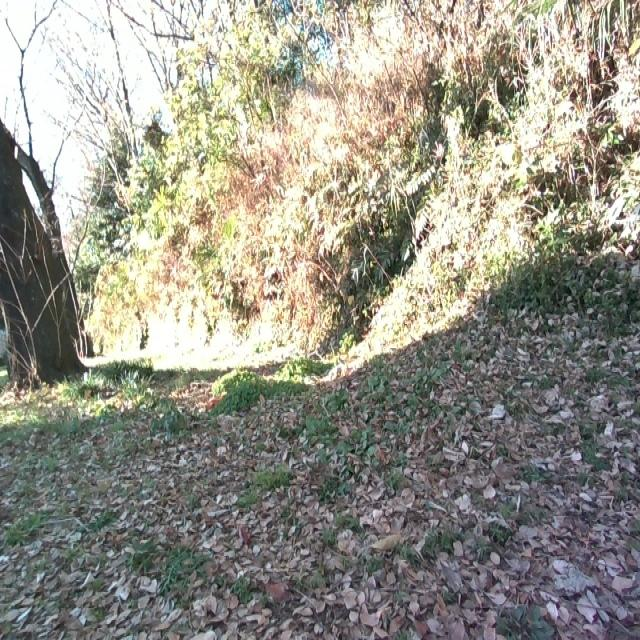bush: (75, 2, 306, 357), (219, 173, 425, 347)
tree: (0, 104, 90, 392)
